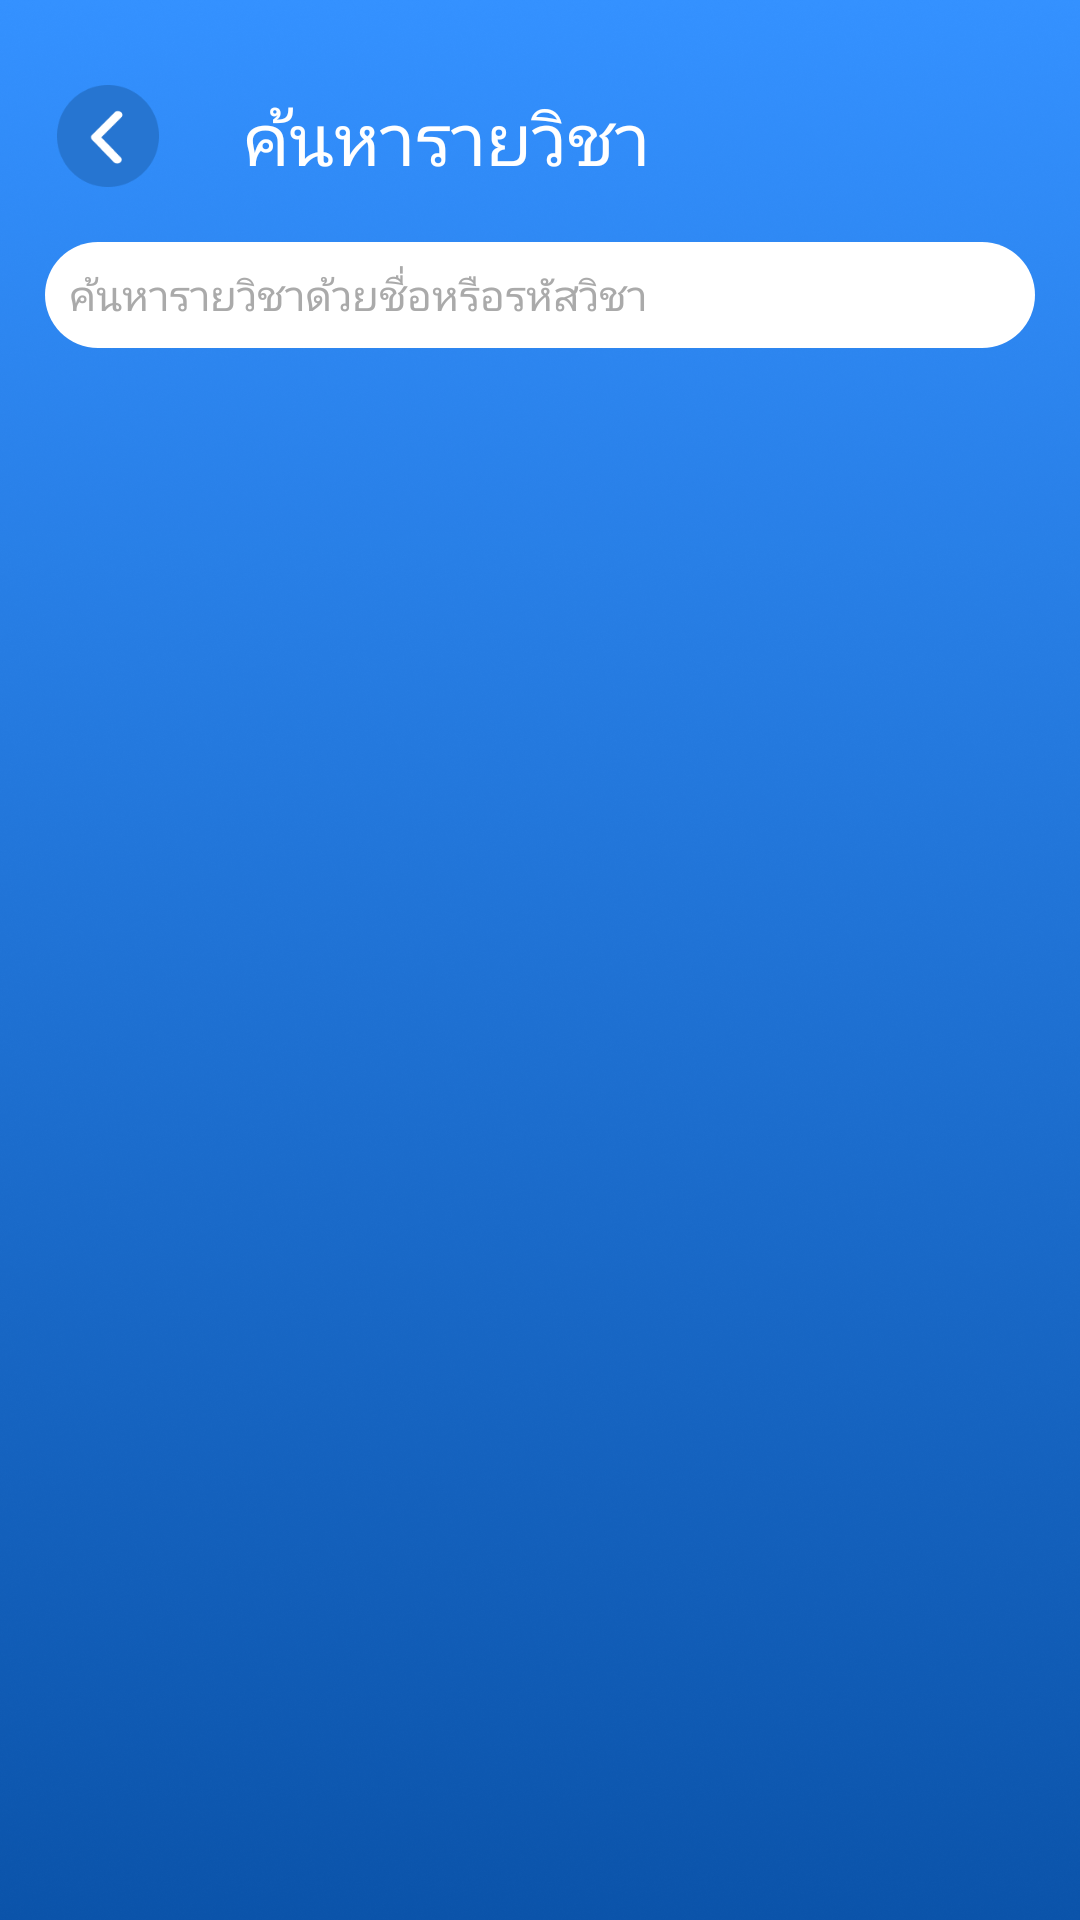

Icons on this 1080x1920 Android screen, each with the point to tap as [x,y]:
back circle: [108,136]
